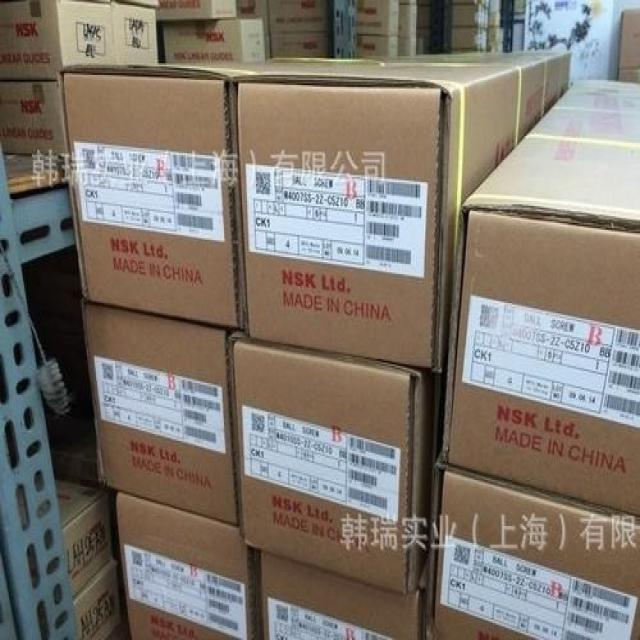box: (229, 49, 571, 374), (61, 58, 412, 329), (442, 78, 640, 516), (228, 330, 447, 596), (425, 460, 640, 640), (82, 298, 241, 526), (116, 490, 261, 638), (260, 551, 433, 640), (0, 0, 116, 82), (56, 477, 111, 599), (1, 80, 68, 155), (164, 19, 266, 61), (73, 558, 120, 640), (111, 3, 157, 63), (269, 2, 330, 32), (159, 0, 237, 20), (356, 0, 399, 36), (271, 32, 329, 56), (618, 10, 640, 68), (237, 0, 269, 32), (356, 34, 399, 56), (452, 3, 489, 27), (452, 26, 488, 49), (401, 5, 417, 39), (398, 36, 417, 54), (616, 70, 640, 82)
